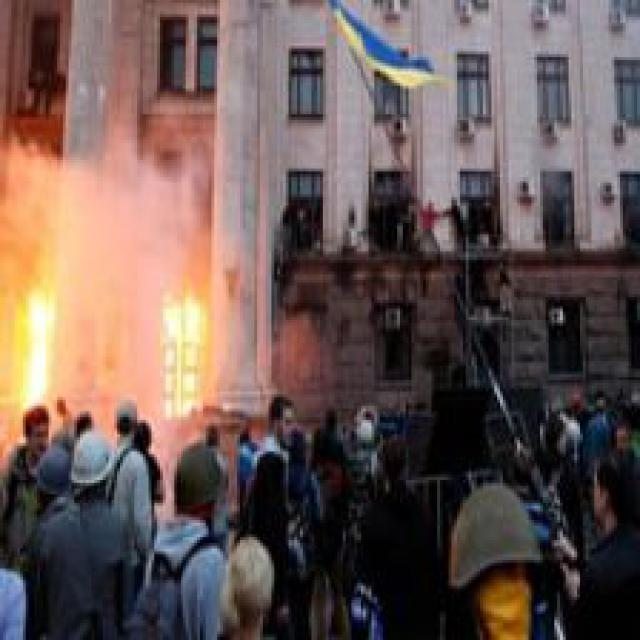fire: (9, 226, 217, 420)
